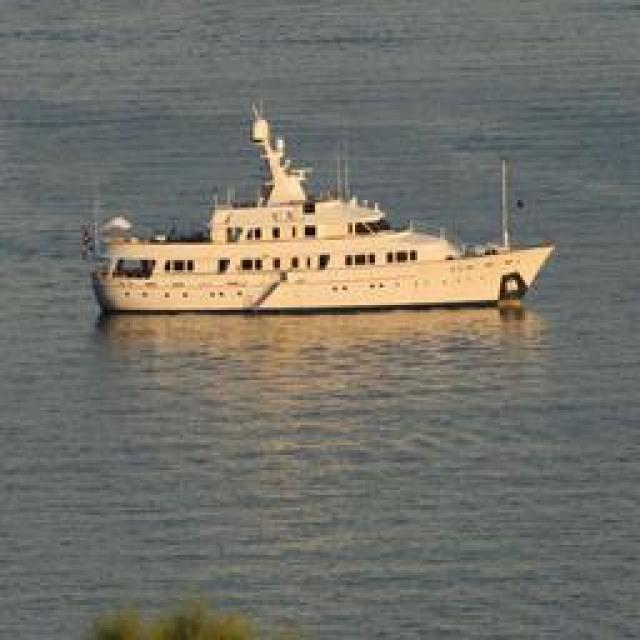CIV_Ship: (80, 111, 562, 324)
